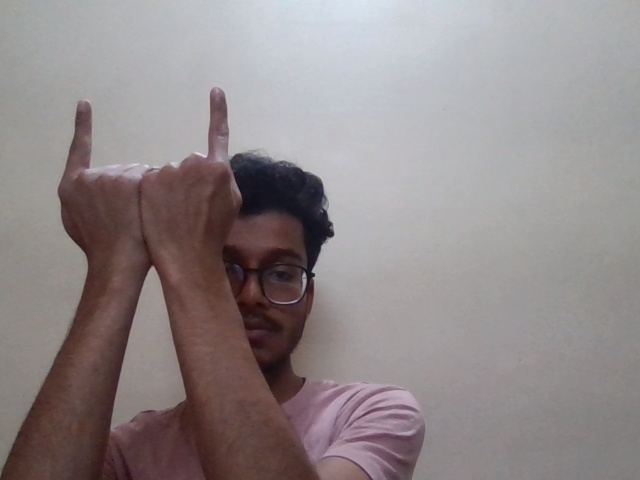when: (56, 82, 270, 286)
